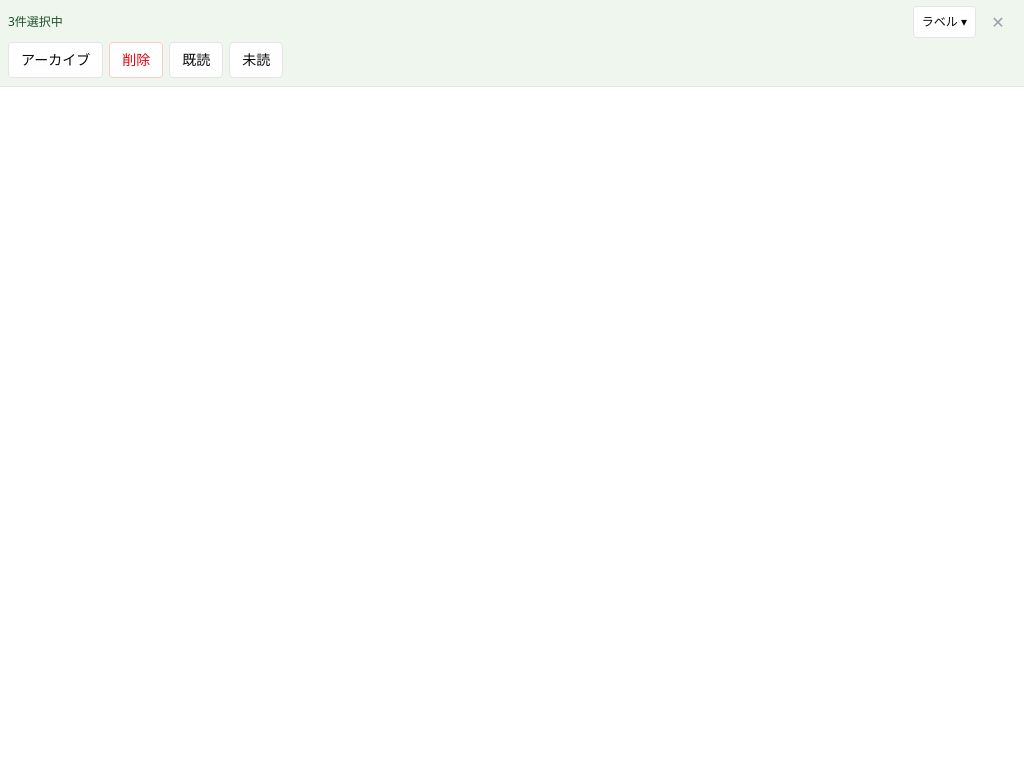
Test: BulkActionBar › 削除確認ダイアログ › 確認ダイアログに選択件数が表示される
Click the button "削除".
click(136, 60)  # box [109,42,163,78]
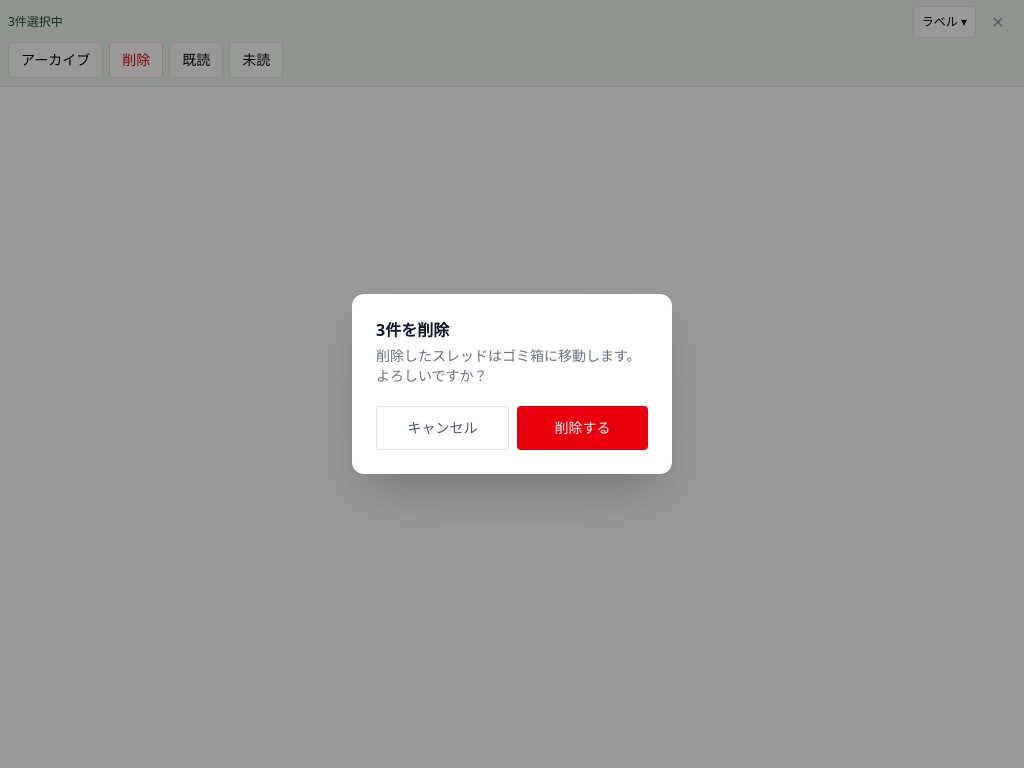
Expected: the text "3件を削除" is shown, [376,319,449,341]
